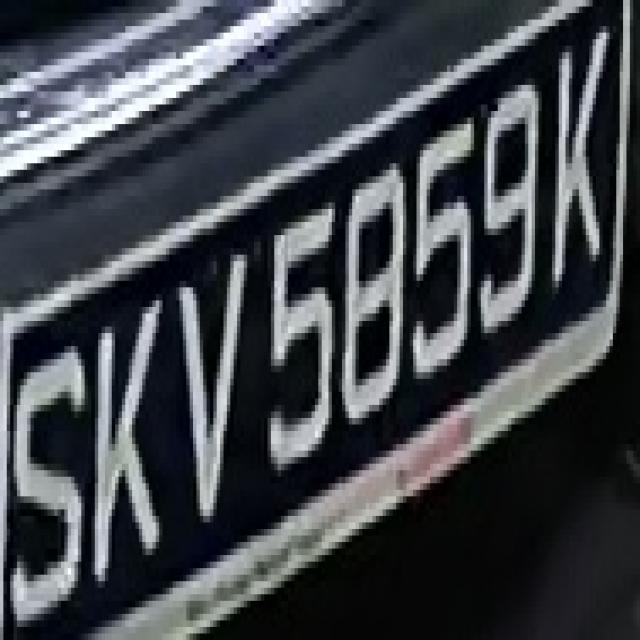5: (264, 222, 342, 483), (410, 117, 477, 392)
8: (339, 157, 413, 444)
9: (477, 72, 552, 333)
K: (85, 274, 166, 614), (542, 13, 613, 320)
S: (13, 326, 95, 634)
V: (163, 229, 254, 529)
